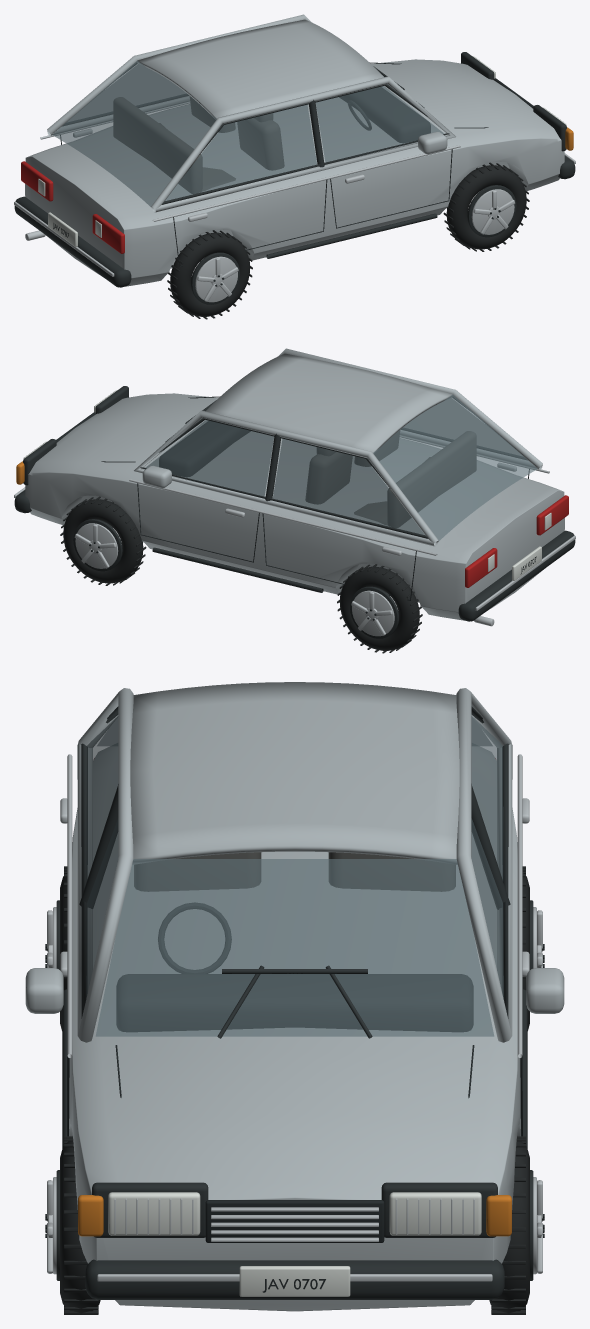
File: hatchback.glb
3 renders of one model, top to bottom at view 1: azimuth 30°, elevation 25°; view 2: azimuth 150°, elevation 25°; view 3: azimuth 270°, elevation 25°, orthographic. The views are drawn at different scales.
Parts seen in each view (by area): view 1: Paint_Silver, Glass_Tinted.001, Window_Rubber.001, Rubber_Tires.001, Interior_Fabric.001, Alloy_and_Chrome.001, Rear_Red_Lenses.001, Panel_Seams.001, Headlight_Reflectors.001; view 2: Paint_Silver, Glass_Tinted.001, Window_Rubber.001, Rubber_Tires.001, Interior_Fabric.001, Alloy_and_Chrome.001, Rear_Red_Lenses.001, Panel_Seams.001, Headlight_Reflectors.001; view 3: Paint_Silver, Glass_Tinted.001, Window_Rubber.001, Alloy_and_Chrome.001, Headlight_Reflectors.001, Rubber_Tires.001, Interior_Fabric.001, Panel_Seams.001, Indicator_Lenses.001.
Part boxes in pixels (x1,y1,x2,y2): Paint_Silver: (25,14,564,287); Glass_Tinted.001: (52,61,445,206); Window_Rubber.001: (14,52,575,304); Rubber_Tires.001: (167,162,529,319); Interior_Fabric.001: (113,96,284,193); Alloy_and_Chrome.001: (14,68,575,302); Rear_Red_Lenses.001: (21,161,124,253); Panel_Seams.001: (53,62,533,286); Headlight_Reflectors.001: (38,56,566,246); Paint_Silver: (25,348,564,621); Glass_Tinted.001: (144,395,537,540); Window_Rubber.001: (14,386,575,638); Rubber_Tires.001: (60,496,422,653); Interior_Fabric.001: (305,430,476,527); Alloy_and_Chrome.001: (14,395,575,636); Rear_Red_Lenses.001: (465,495,568,587); Panel_Seams.001: (56,396,536,620); Headlight_Reflectors.001: (23,390,551,580); Paint_Silver: (25,682,564,1311); Glass_Tinted.001: (86,716,503,1036); Window_Rubber.001: (56,706,533,1299); Alloy_and_Chrome.001: (47,754,542,1281); Headlight_Reflectors.001: (108,1192,481,1296); Rubber_Tires.001: (60,866,529,1314); Interior_Fabric.001: (134,852,455,891); Panel_Seams.001: (45,944,544,1292); Indicator_Lenses.001: (78,1195,511,1236).
Size of the model in its own units: 3.99 by 1.55 by 1.99.
